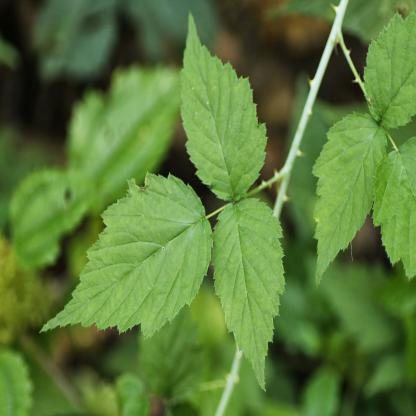Raspberry leaf: (36, 171, 212, 338), (177, 6, 270, 200), (209, 197, 290, 400), (313, 109, 392, 284), (372, 133, 416, 284), (362, 9, 416, 129)
